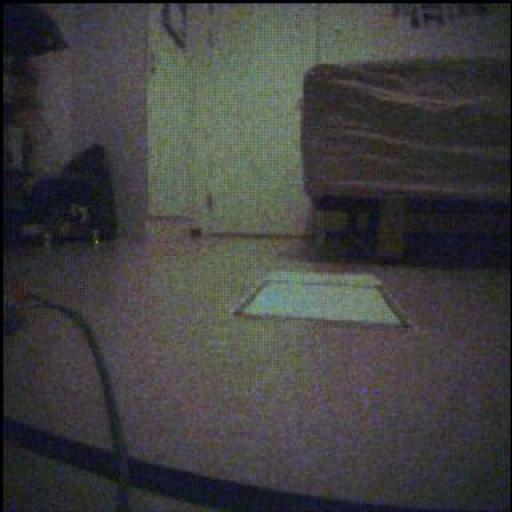pad: (235, 273, 409, 327)
